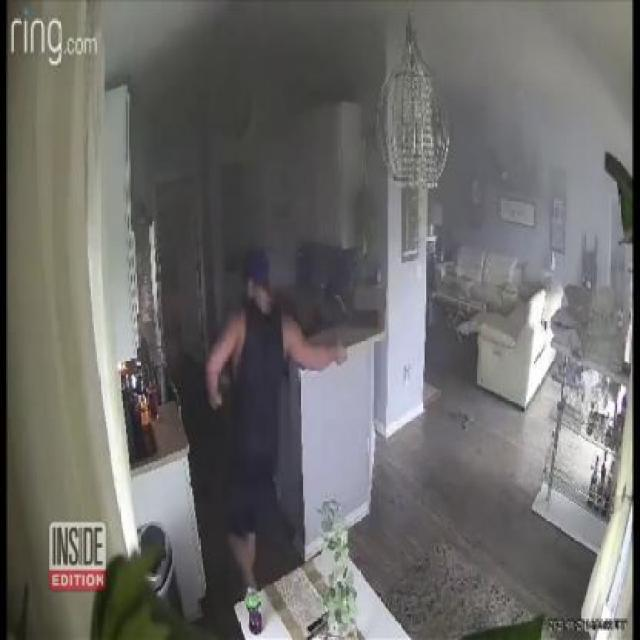smoke: (443, 11, 634, 140), (132, 2, 371, 100)
